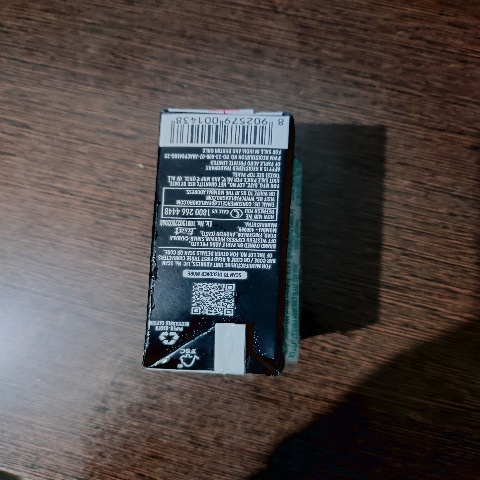appy: (133, 93, 310, 392)
